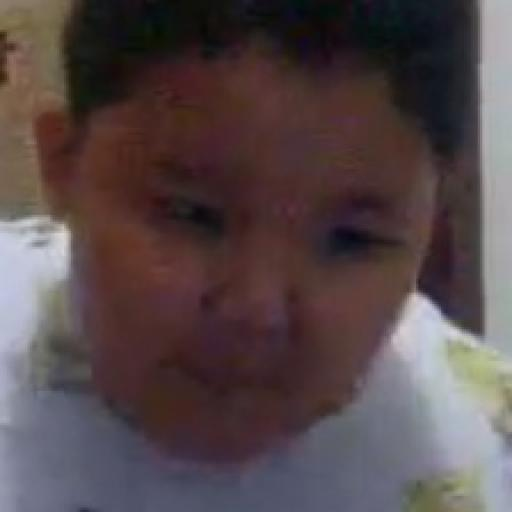Autism: (39, 17, 490, 480)
